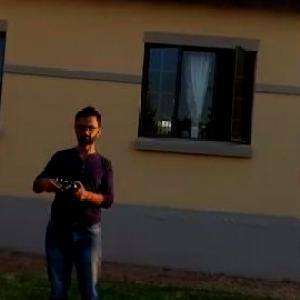follow: (24, 101, 118, 299)
